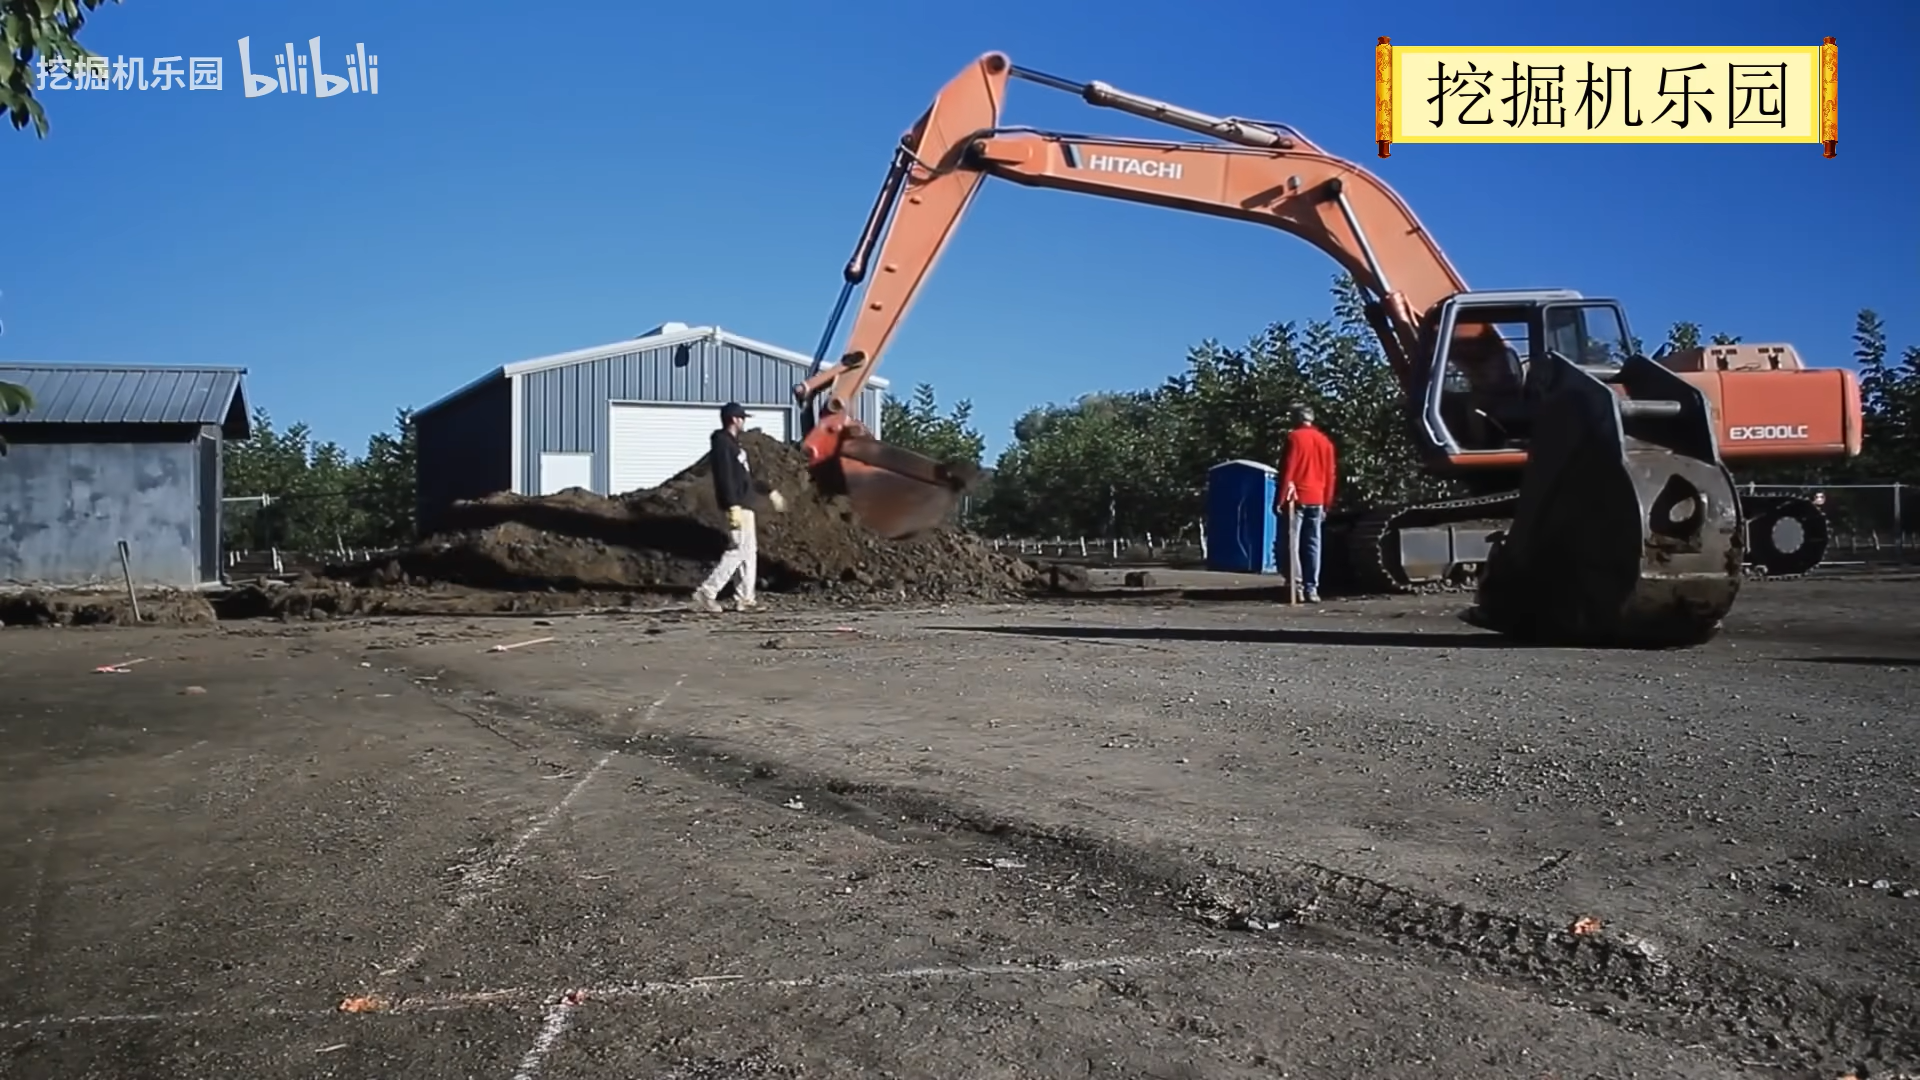excavator: (786, 50, 1911, 571)
